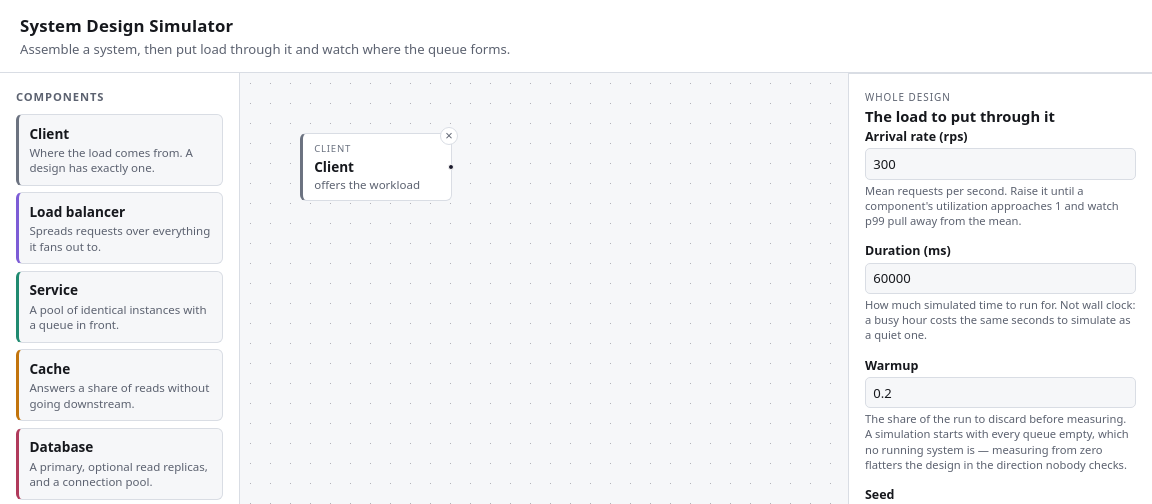
Test: Home › puts a component on the canvas when the palette is used
Check: the number of elements with class "react-flow__node" is 1, box [300,133,452,201]
Click the button "Service A pool of identical instances with a queue in front.".
click(120, 307)  # box [16,271,223,343]
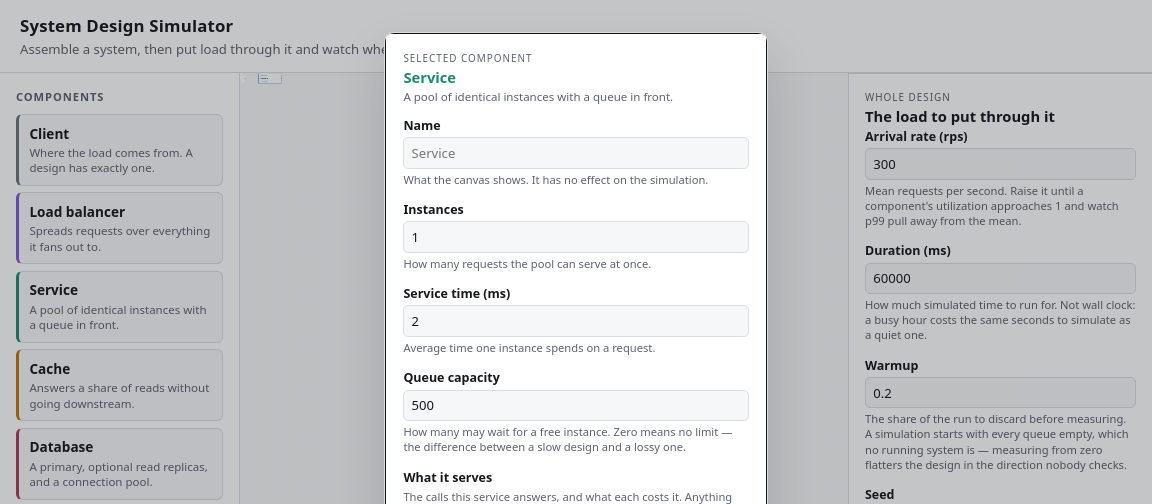
Check: the text "Service" is shown, box [261,77,268,80]
